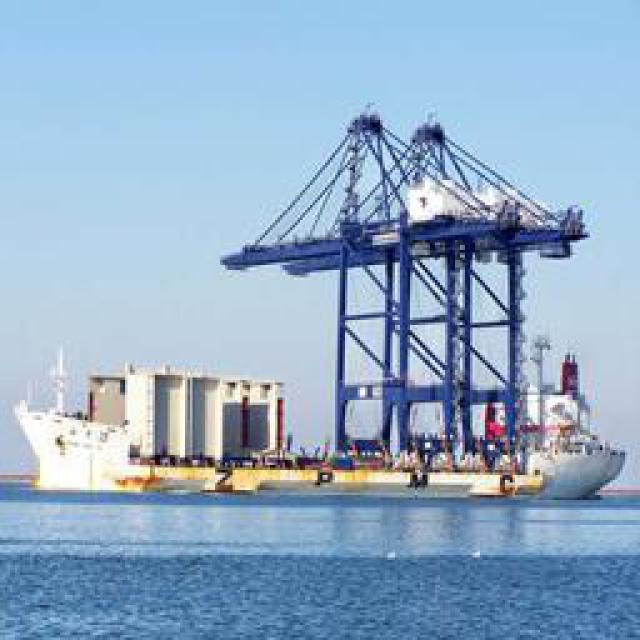Ship: (520, 441, 628, 501)
